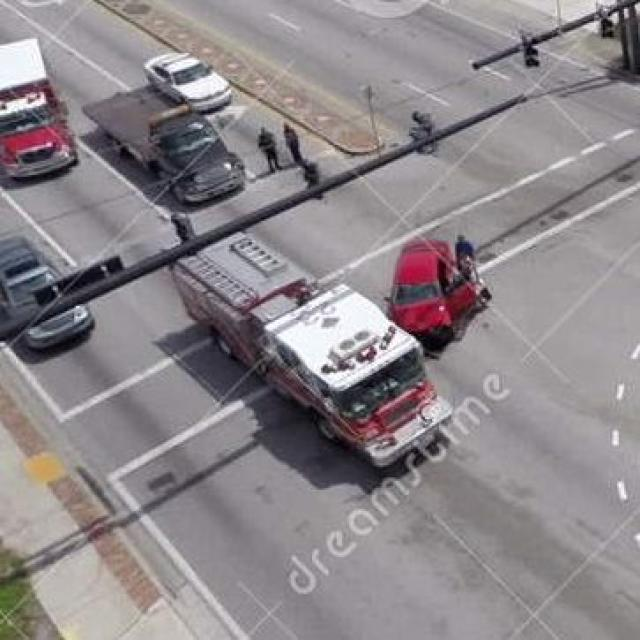traffic_incident: (372, 221, 502, 357)
